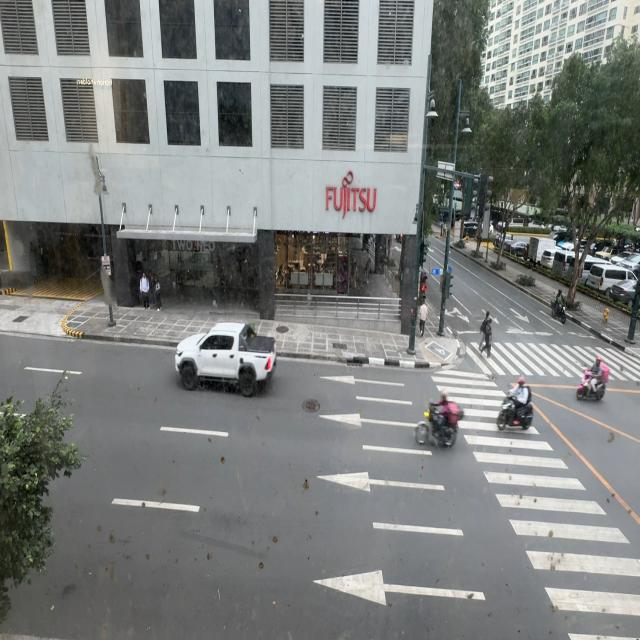crossing: (479, 312, 492, 356)
pedestrain: (140, 271, 150, 309), (418, 300, 428, 337)
